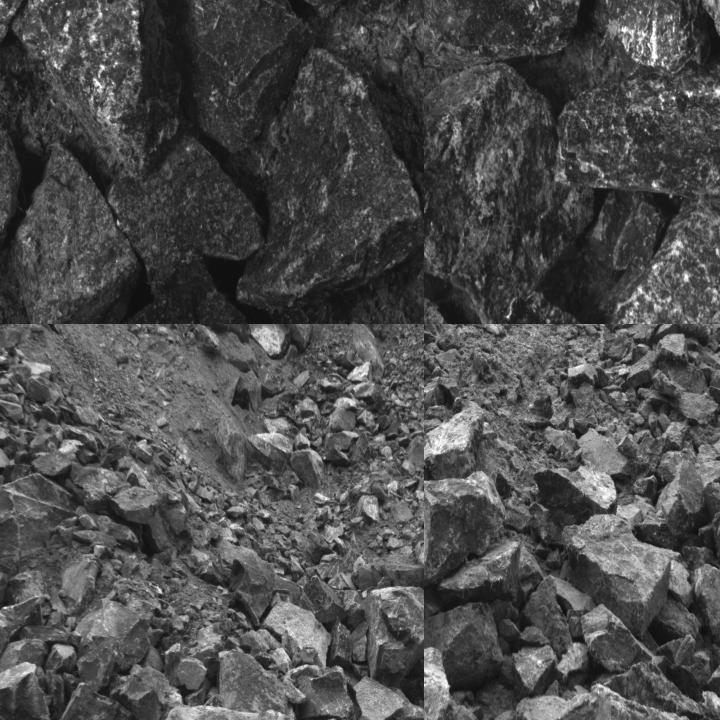stone: (239, 47, 423, 319), (424, 60, 597, 323), (19, 0, 182, 174), (554, 47, 719, 198), (145, 0, 308, 151), (15, 141, 137, 323), (110, 136, 255, 286), (424, 0, 584, 135), (593, 186, 719, 323), (560, 514, 671, 637), (52, 276, 292, 323), (424, 470, 507, 595), (590, 0, 711, 73), (514, 683, 719, 719), (0, 474, 80, 564), (424, 600, 504, 690), (424, 639, 497, 719), (436, 542, 521, 605), (68, 463, 160, 520), (580, 603, 654, 672), (602, 663, 700, 715), (424, 397, 485, 479), (536, 466, 617, 524), (261, 601, 332, 667), (77, 606, 151, 669), (521, 576, 573, 660), (664, 450, 711, 534), (229, 547, 276, 628), (657, 637, 716, 701), (0, 659, 59, 719), (578, 429, 640, 482), (511, 644, 557, 702), (78, 508, 140, 551), (244, 432, 296, 475), (692, 560, 719, 641), (650, 600, 701, 642), (300, 576, 345, 622), (556, 642, 597, 692), (0, 597, 45, 642), (32, 440, 85, 477), (678, 383, 719, 425), (192, 622, 223, 676), (0, 637, 48, 670), (668, 550, 696, 604), (661, 360, 706, 391), (290, 450, 324, 488), (626, 349, 659, 388), (315, 433, 355, 464), (597, 324, 630, 359), (42, 644, 78, 676), (24, 374, 62, 403), (20, 625, 80, 643), (653, 369, 685, 398), (657, 333, 689, 361), (317, 554, 348, 579), (437, 376, 462, 405), (74, 530, 119, 546), (568, 363, 598, 387), (72, 408, 104, 430), (328, 408, 357, 432), (657, 450, 679, 481), (186, 680, 211, 706), (697, 458, 719, 486), (706, 664, 719, 711), (698, 691, 719, 719), (347, 363, 373, 384), (0, 623, 9, 679), (0, 445, 16, 468), (645, 324, 664, 342), (77, 515, 99, 530), (708, 369, 719, 395), (493, 710, 517, 719)
